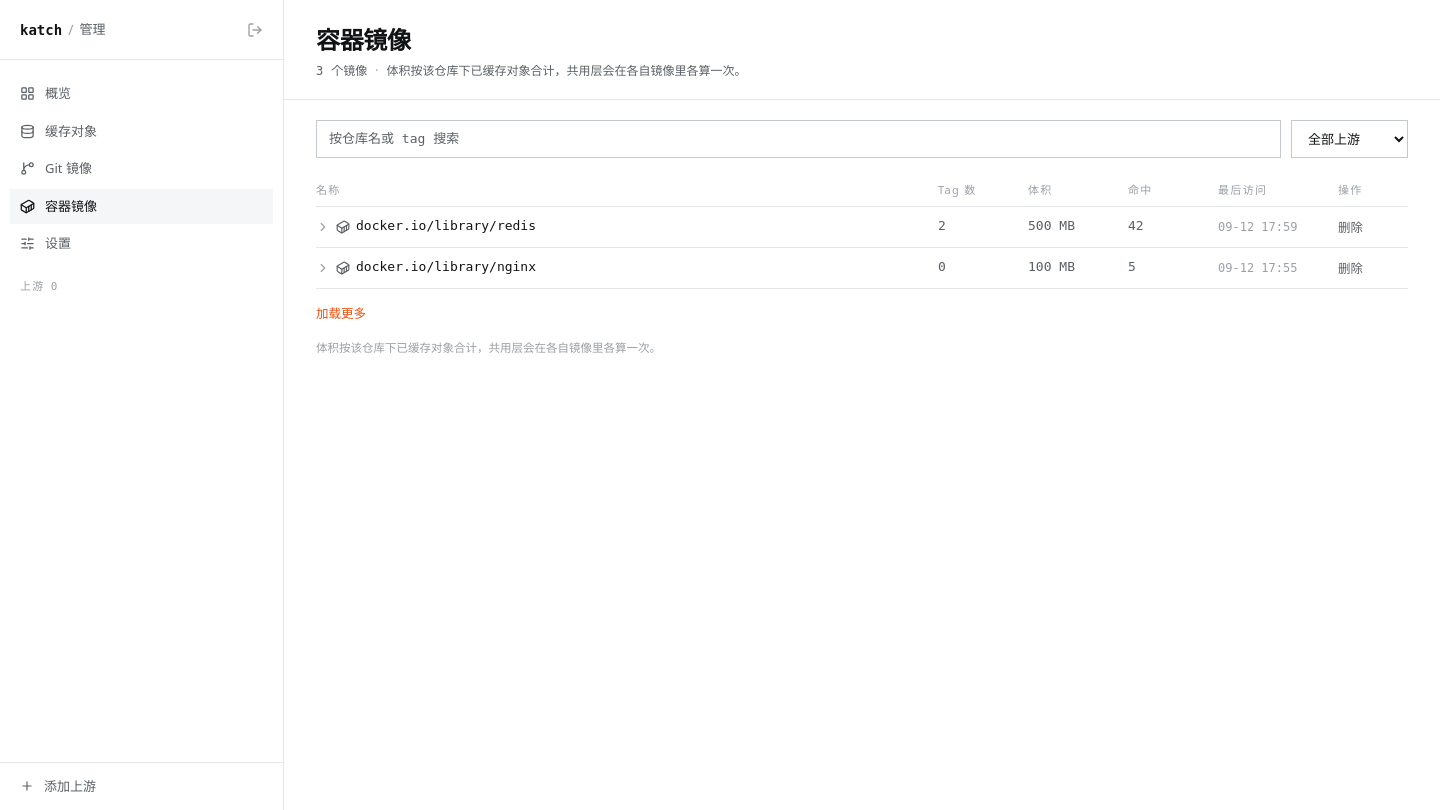
Test case: 后台 · 容器镜像 › 删除之后的重取先回来、之前发出的「加载更多」后回来时，不把删掉的镜像接回去
The image size is (1440, 810).
Expected: the table named "容器镜像" is shown, x1=316 y1=174 x2=1408 y2=289
Expected: the row "docker.io/library/nginx 0 100 MB 5 09-12 17:55 删除" is shown, x1=316 y1=247 x2=1408 y2=288
Note: 下一批按删除之前的库算好，扣住。
Click the button "加载更多": [341, 314] box x1=316 y1=305 x2=366 y2=324
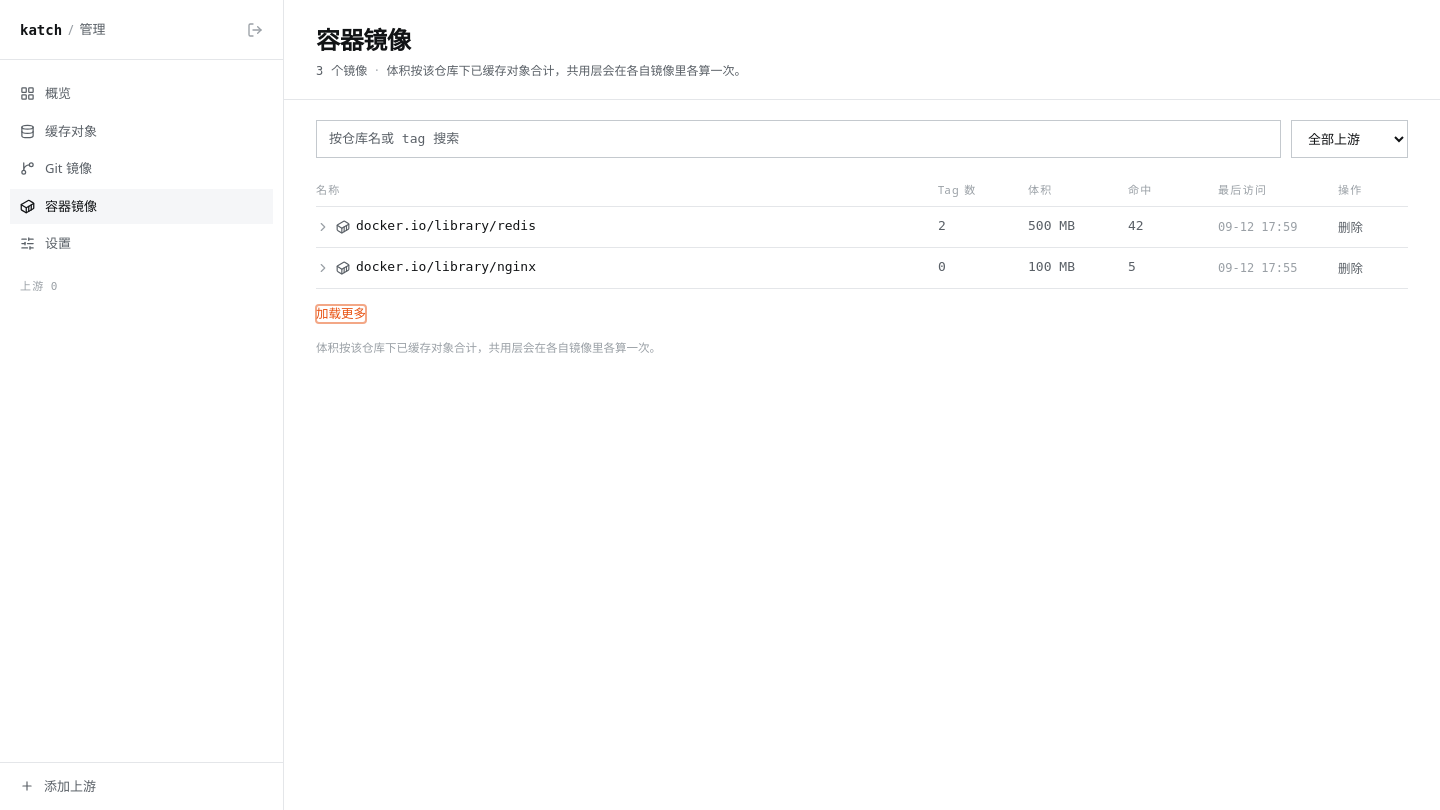
Click the button "删除" in the row of "docker.io/library/redis": [1350, 228] box x1=1338 y1=219 x2=1363 y2=236
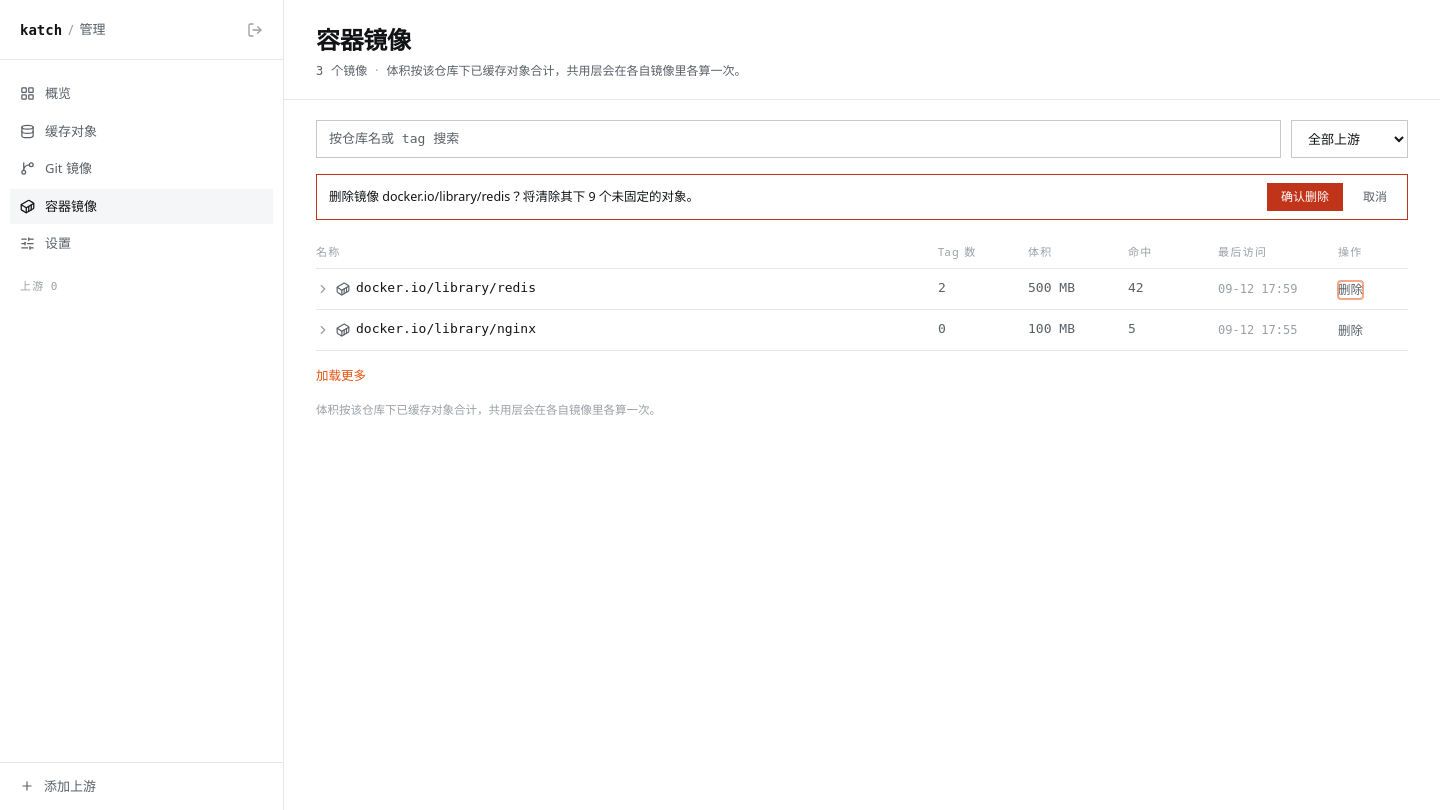
Click the button "确认删除": [1305, 197] box x1=1267 y1=183 x2=1343 y2=211
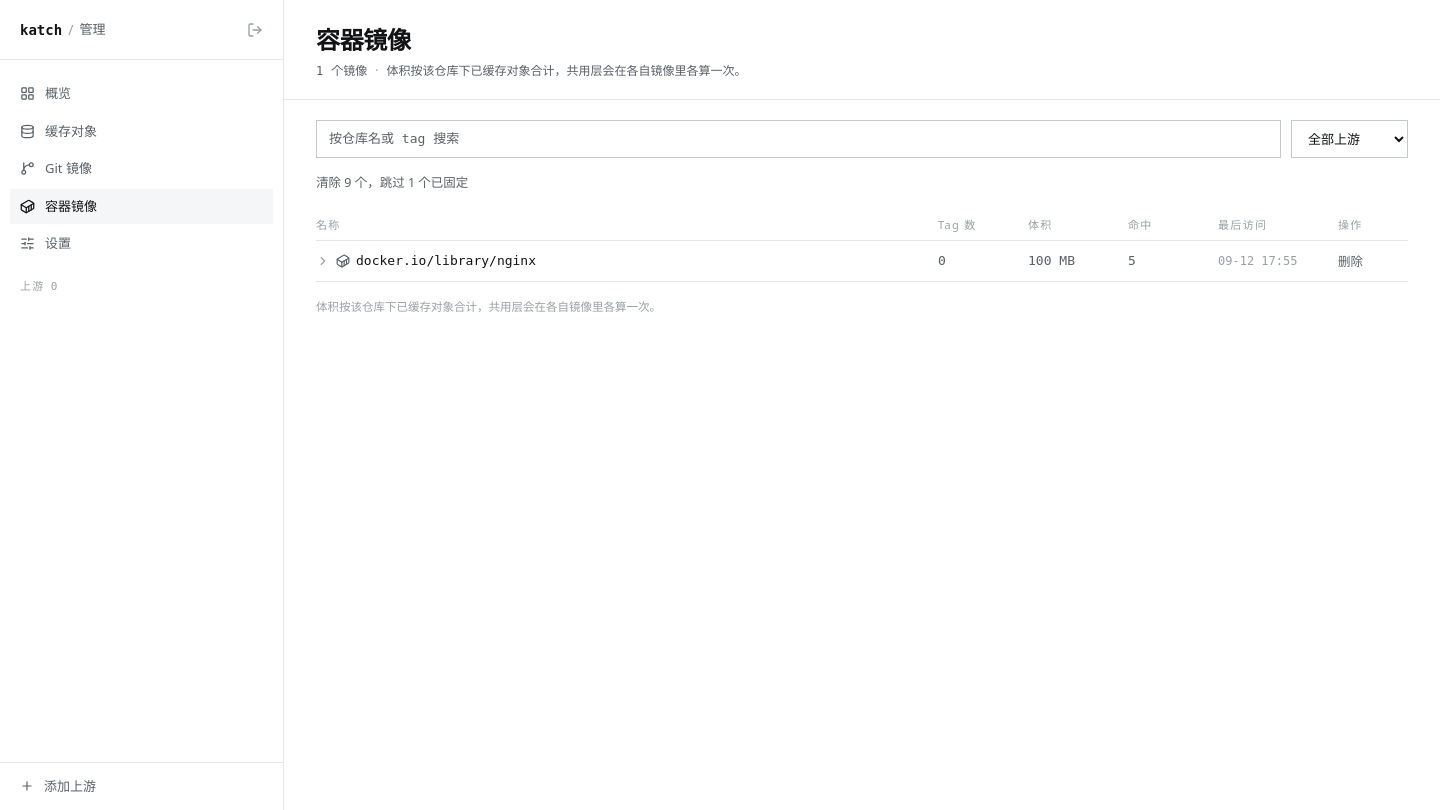
Result: the text "library/redis" is gone
